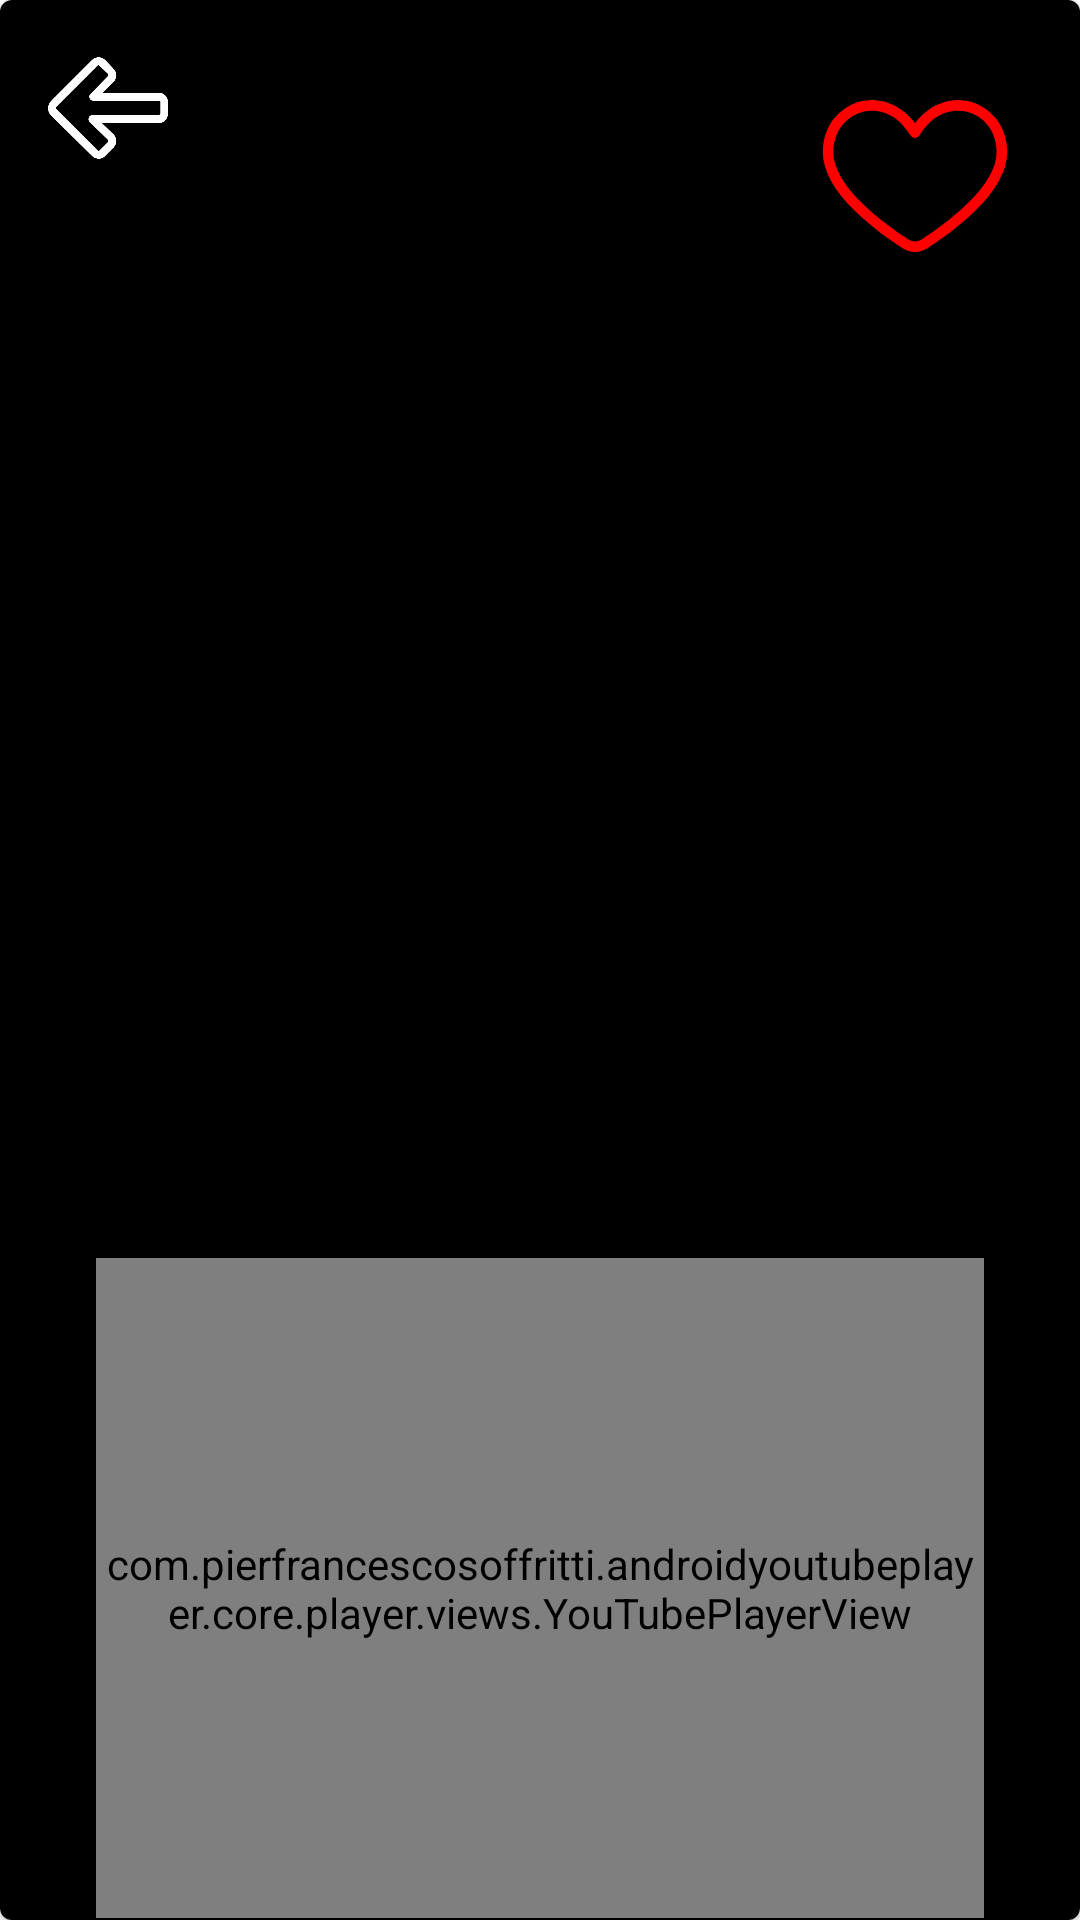

Where to tap for icons on this 1080px x 1920px app screen, as (x=x, y=y):
back: (x=108, y=108)
heart empty: (x=915, y=176)
